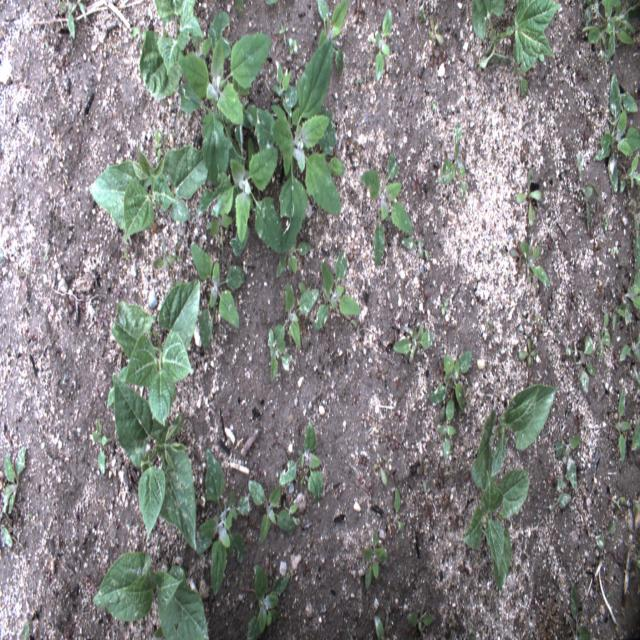crop: (464, 380, 556, 592), (112, 372, 196, 552), (110, 278, 201, 427), (86, 144, 212, 244), (92, 548, 208, 640), (470, 0, 562, 75), (140, 0, 203, 101)
weed: (254, 37, 345, 257), (178, 10, 272, 186), (195, 145, 289, 256), (195, 448, 251, 594), (189, 241, 248, 352), (360, 150, 414, 268), (594, 70, 639, 193), (312, 250, 361, 330), (278, 420, 326, 500), (270, 281, 320, 352), (248, 478, 297, 545), (246, 563, 289, 639), (582, 1, 637, 60), (428, 349, 472, 413), (316, 0, 348, 76), (554, 415, 581, 495), (576, 152, 601, 232), (438, 120, 466, 184), (611, 270, 639, 332), (393, 322, 434, 363), (3, 444, 27, 514), (516, 164, 541, 228), (362, 530, 388, 591), (570, 330, 595, 392), (276, 238, 313, 279), (518, 239, 550, 285), (436, 396, 456, 464), (569, 582, 592, 640), (614, 391, 632, 462), (105, 364, 134, 408), (268, 329, 292, 382), (375, 6, 392, 78), (91, 416, 109, 477), (57, 0, 81, 41), (155, 236, 181, 271), (406, 604, 435, 633), (620, 322, 639, 363), (620, 154, 640, 192), (596, 310, 610, 360), (400, 238, 432, 259), (0, 498, 13, 549), (508, 238, 529, 269), (518, 336, 537, 368), (512, 58, 528, 96), (554, 475, 571, 510), (210, 211, 233, 236), (392, 487, 404, 532), (428, 12, 443, 43), (594, 521, 614, 544), (282, 500, 300, 525), (152, 130, 164, 166), (373, 456, 387, 486), (299, 282, 316, 305), (633, 206, 639, 268), (131, 25, 152, 41), (593, 198, 604, 227), (376, 613, 388, 639), (375, 364, 390, 384), (300, 458, 310, 484), (19, 616, 30, 638), (632, 421, 640, 450), (278, 20, 287, 45), (356, 325, 363, 351), (289, 37, 298, 57), (440, 299, 450, 316), (612, 244, 619, 256)
